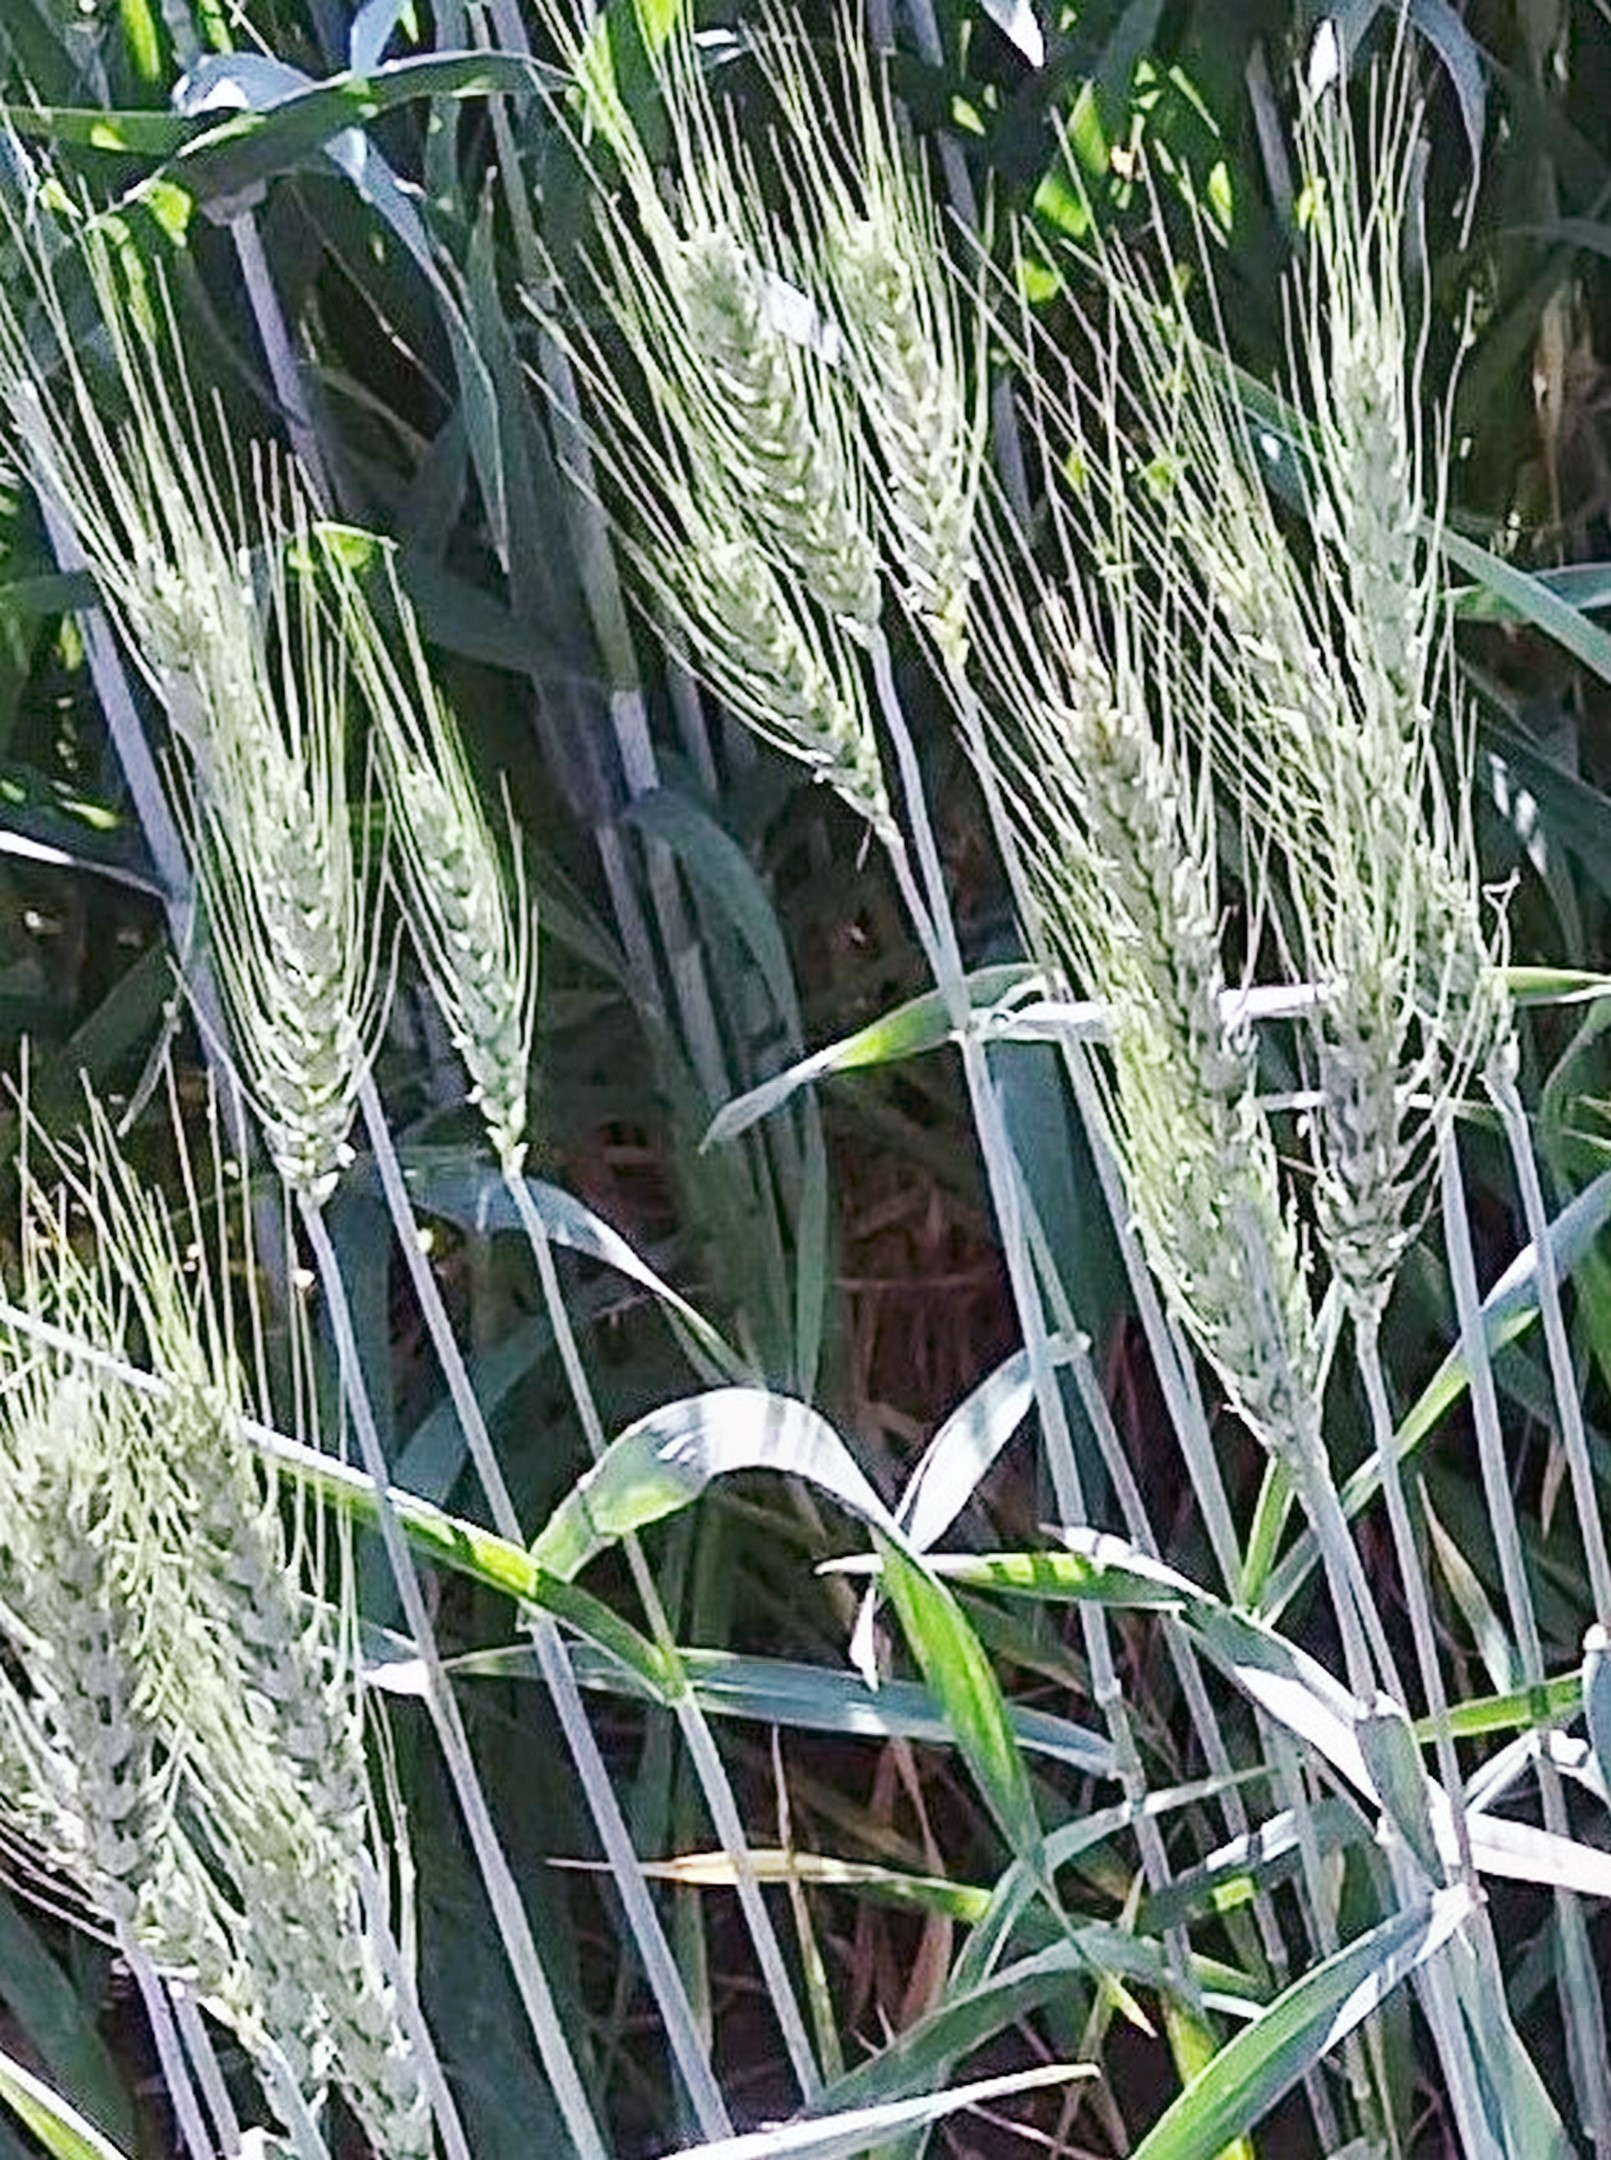Healthy Wheat: (604, 173, 998, 775), (20, 1329, 369, 1977)
